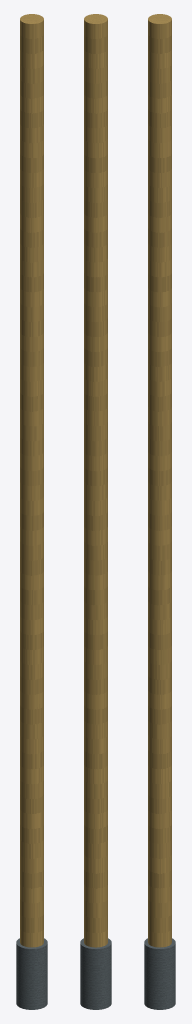
Rendered from pole.glb.
3 views of the same model, side by side, from view 1: azimuth 90°, elevation 25°; view 2: azimuth 210°, elevation 25°; view 3: azimuth 270°, elevation 25° (orthographic).
Parts seen in each view (by area): view 1: tube, base; view 2: tube, base; view 3: tube, base.
Boxes of the visible parts, <box> form: tube: <box>20,14,43,947</box>; base: <box>16,938,47,1009</box>; tube: <box>84,14,107,947</box>; base: <box>80,938,111,1009</box>; tube: <box>148,14,171,947</box>; base: <box>144,938,175,1009</box>.
Size of the model in its own units: 0.09 by 3.1 by 0.09.
Materials: 2 (2 with a texture image).
